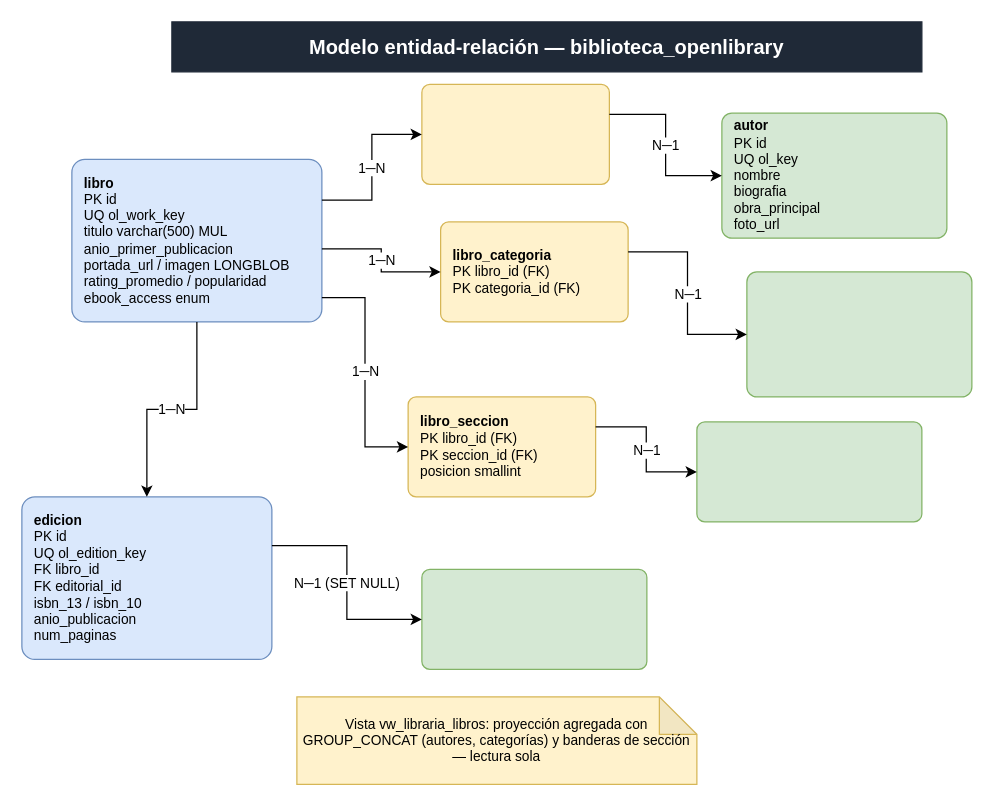
Some shapes in this 994 by 806 pixel diagram are drawn without their labels. Each missing label, with the box of its shape:
categoria PK id UQ slug nombre descripcion: (746, 271, 972, 397)
editorial PK id UQ nombre: (421, 568, 647, 669)
libro_autor PK libro_id (FK) PK autor_id (FK) orden tinyint: (421, 83, 609, 184)
seccion PK id UQ slug nombre (carrusel, destacados…): (696, 421, 922, 522)
